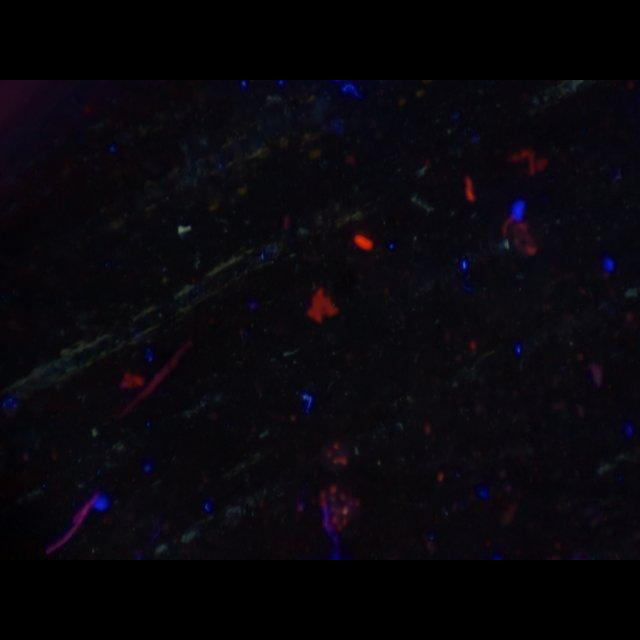microbeads: (175, 222, 192, 236)
